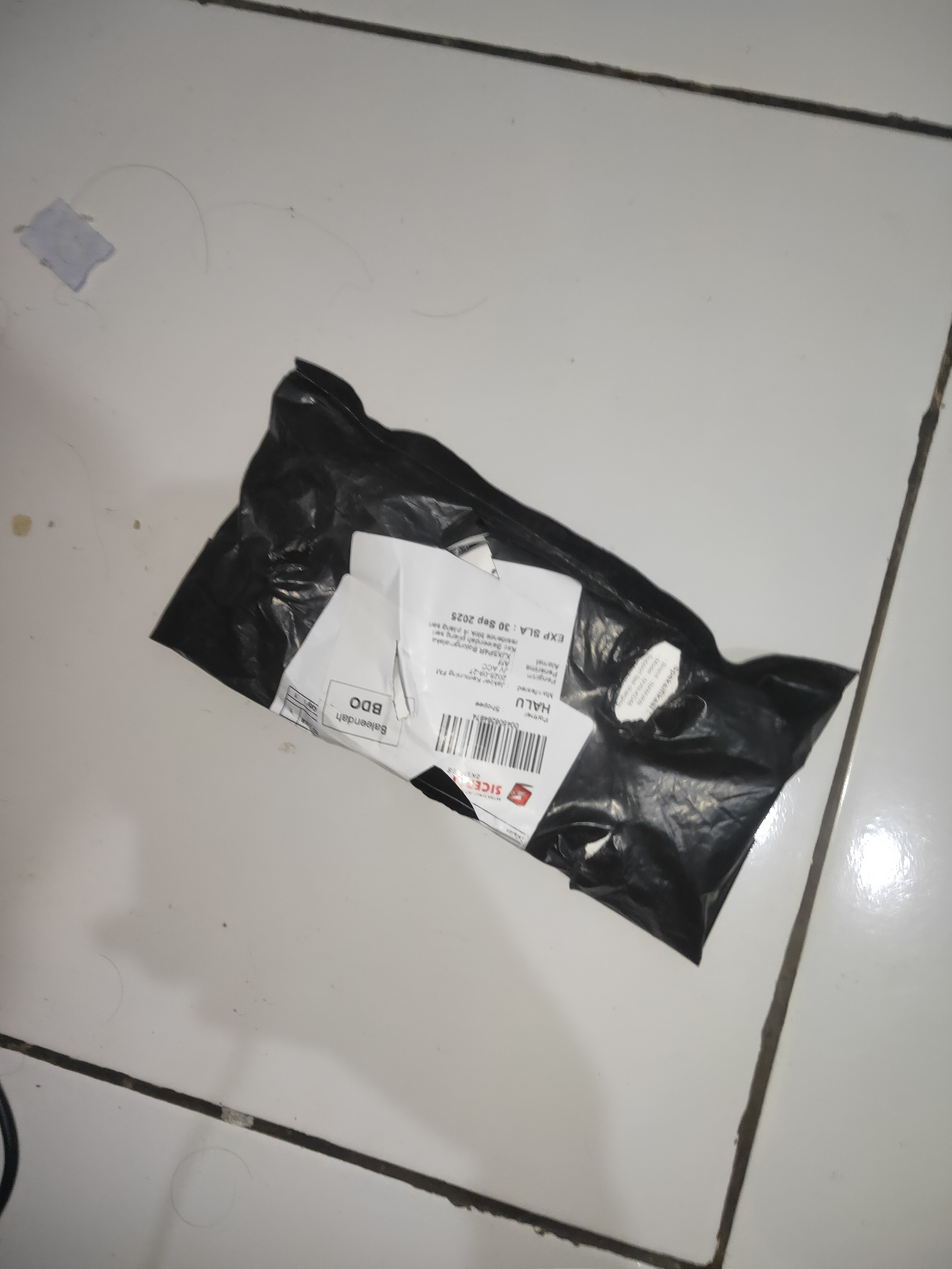damaged package: (610, 638, 693, 731), (410, 759, 484, 825), (440, 526, 505, 579), (569, 823, 619, 885), (389, 633, 415, 722), (259, 536, 316, 566)
undamaged: (154, 362, 860, 966)
